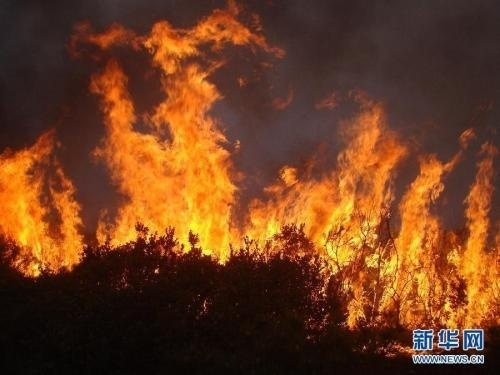fire: (60, 34, 500, 355)
